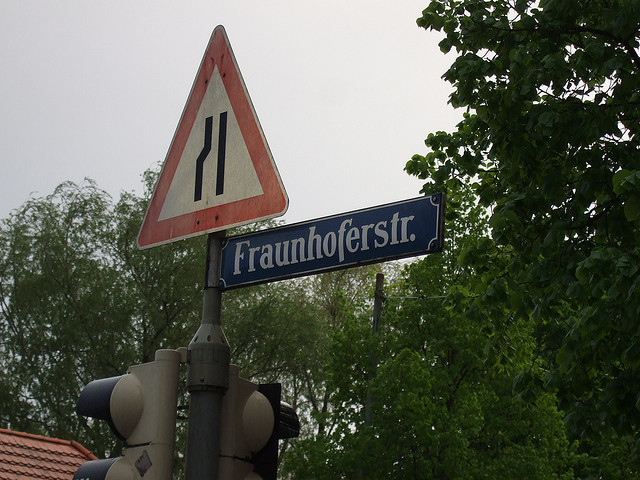Road narrow: (138, 19, 295, 226)
